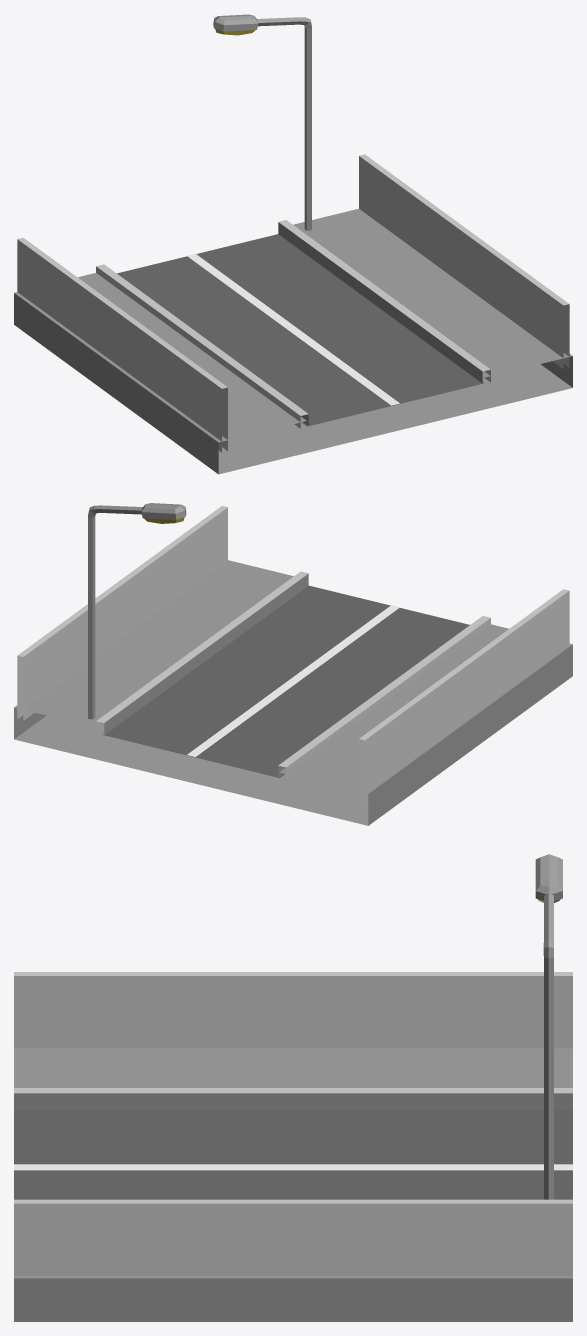
The model's file is road_tile_bridge_1x1_004.glb.
The picture shows the model from 3 angles, top to bottom: view 1: azimuth 30°, elevation 25°; view 2: azimuth 150°, elevation 25°; view 3: azimuth 270°, elevation 25°; orthographic projection. The views are drawn at different scales.
Visible parts, largest first — view 1: road_tile_bridge_1x1_004; view 2: road_tile_bridge_1x1_004; view 3: road_tile_bridge_1x1_004.
Boxes of the visible parts, left/top/right/bottom form: road_tile_bridge_1x1_004: left=14, top=14, right=572, bottom=474; road_tile_bridge_1x1_004: left=14, top=503, right=572, bottom=825; road_tile_bridge_1x1_004: left=14, top=854, right=572, bottom=1321.
Size of the model in its own units: 8 by 5.73 by 8.
Materials: 1 (1 with a texture image).
